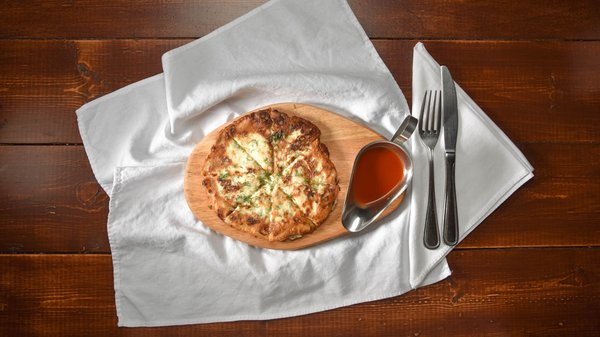pizza: (341, 140, 413, 233)
sandwich: (417, 61, 445, 250)
